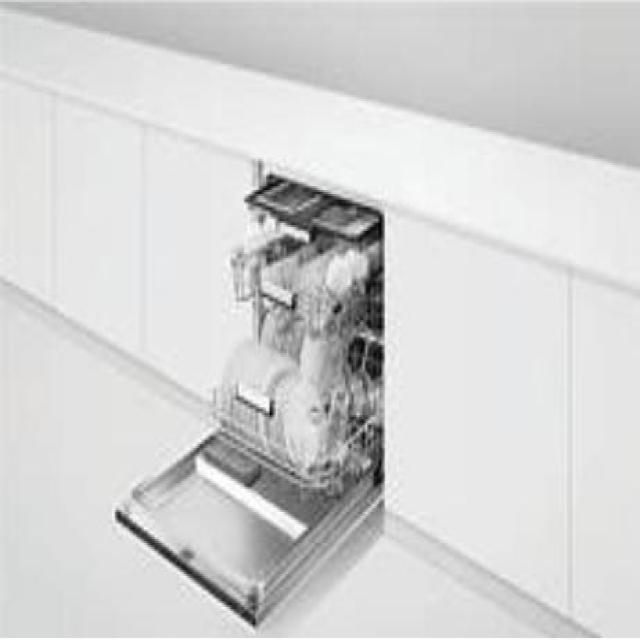dishwasher: (111, 161, 382, 626)
